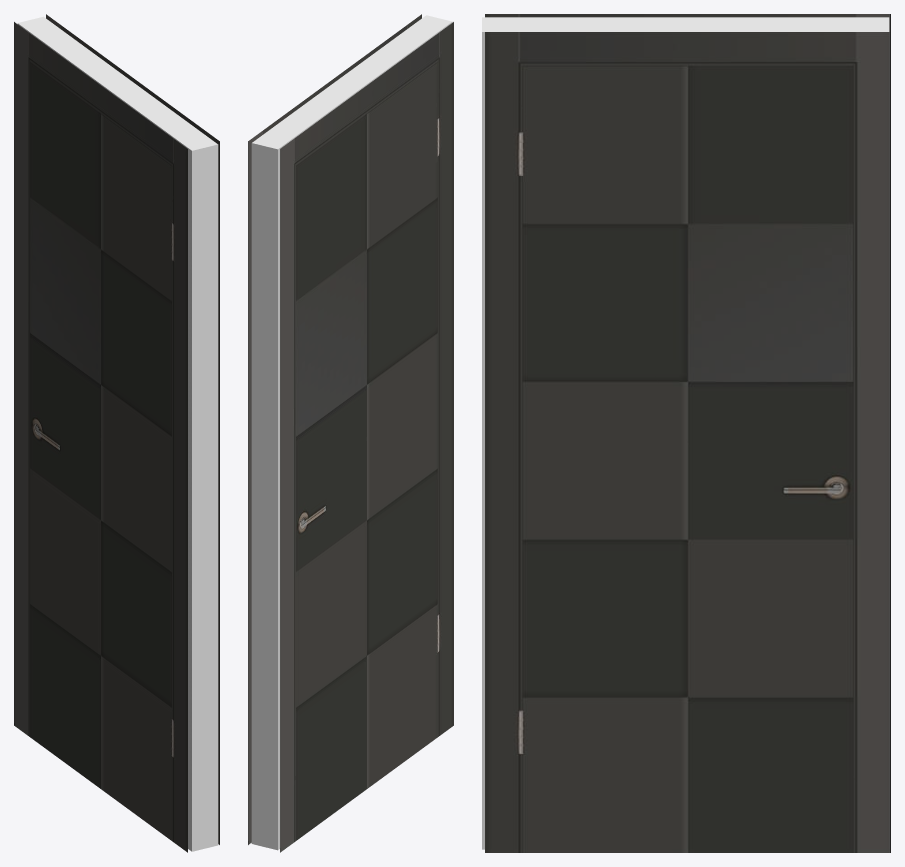
The model's file is межКвадрат.glb.
The picture shows the model from 3 angles, left to right: view 1: azimuth 30°, elevation 25°; view 2: azimuth 150°, elevation 25°; view 3: azimuth 270°, elevation 25°; orthographic projection. The views are drawn at different scales.
Parts seen in each view (by area): view 1: Plane, Cube, Plane.001; view 2: Plane, Cube, Plane.001; view 3: Plane.001, Cube, Plane.
Part boxes in pixels (box(x1,y1,x2,y2)): Plane: box(14, 22, 187, 852); Cube: box(17, 16, 218, 851); Plane.001: box(46, 14, 219, 844); Plane: box(280, 22, 453, 852); Cube: box(251, 15, 452, 850); Plane.001: box(248, 14, 421, 844); Plane.001: box(485, 32, 890, 852); Cube: box(482, 17, 889, 849); Plane: box(485, 14, 890, 31).
Size of the model in its own units: 0.2175 by 4.6 by 2.08.
3 materials, 2 textured.
